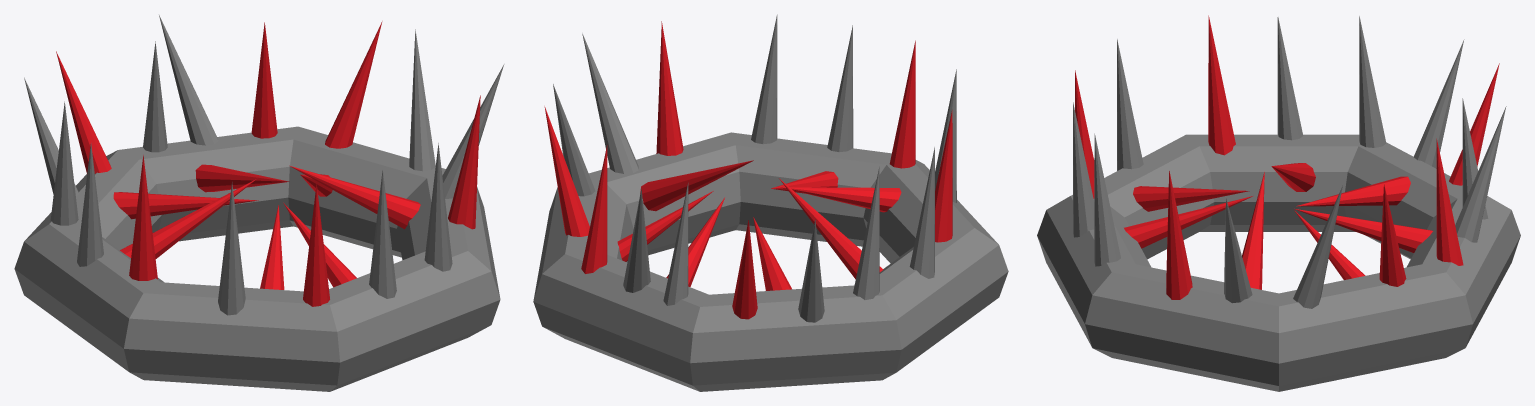
The model's file is UtocnyVrcholbb.fbx.
The picture shows the model from 3 angles, left to right: view 1: azimuth 30°, elevation 25°; view 2: azimuth 150°, elevation 25°; view 3: azimuth 270°, elevation 25°; orthographic projection. The views are drawn at different scales.
Parts seen in each view (by area): view 1: Torus.004, Kužel, Kužel.014, Kužel.007, Kužel.012, Kužel.020, Kužel.010, Kužel.009, Kužel.002, Kužel.004, Kužel.001, Kužel.005 (+11 smaller); view 2: Torus.004, Kužel.015, Kužel.007, Kužel.020, Kužel.001, Kužel.002, Kužel.004, Kužel.005, Kužel.006, Kužel.003, Kužel.009, Kužel.010 (+12 smaller); view 3: Torus.004, Kužel.010, Kužel.012, Kužel.004, Kužel.007, Kužel.001, Kužel.014, Kužel, Kužel.009, Kužel.006, Kužel.003, Kužel.013 (+12 smaller).
Part boxes in pixels (<box>): Torus.004: <box>14,126,500,391</box>; Kužel: <box>218,182,245,315</box>; Kužel.014: <box>409,29,435,171</box>; Kužel.007: <box>448,95,480,229</box>; Kužel.012: <box>159,15,218,145</box>; Kužel.020: <box>289,165,420,229</box>; Kužel.010: <box>129,155,157,280</box>; Kužel.009: <box>369,170,396,298</box>; Kužel.002: <box>325,21,382,148</box>; Kužel.004: <box>424,143,452,271</box>; Kužel.001: <box>50,101,78,225</box>; Kužel.005: <box>303,184,329,306</box>; Torus.004: <box>533,132,1008,391</box>; Kužel.015: <box>582,33,638,173</box>; Kužel.007: <box>656,21,683,155</box>; Kužel.020: <box>640,160,753,211</box>; Kužel.001: <box>853,166,879,299</box>; Kužel.002: <box>544,106,589,236</box>; Kužel.004: <box>751,14,777,144</box>; Kužel.005: <box>889,40,915,168</box>; Kužel.006: <box>581,145,607,273</box>; Kužel.003: <box>909,147,934,278</box>; Kužel.009: <box>827,25,853,152</box>; Kužel.010: <box>935,110,952,242</box>; Torus.004: <box>1037,134,1520,391</box>; Kužel.010: <box>1208,15,1235,155</box>; Kužel.012: <box>1455,106,1506,242</box>; Kužel.004: <box>1094,133,1120,266</box>; Kužel.007: <box>1166,171,1192,299</box>; Kužel.001: <box>1359,16,1386,147</box>; Kužel.014: <box>1293,185,1342,308</box>; Kužel: <box>1117,39,1143,170</box>; Kužel.009: <box>1073,102,1094,237</box>; Kužel.006: <box>1436,138,1463,265</box>; Kužel.003: <box>1277,17,1303,140</box>; Kužel.013: <box>1413,39,1464,168</box>.
Bounding box in the file's own units: 4.66 × 4.55 × 2.25.
